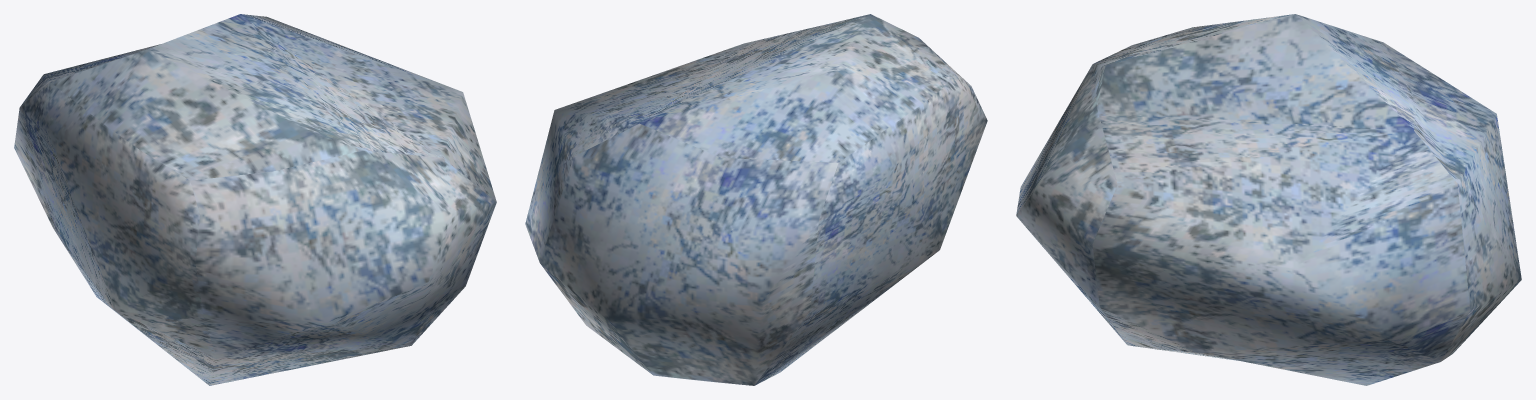
The model's file is asteroid_ice_medium_s02_l3.fbx.
The picture shows the model from 3 angles, left to right: view 1: azimuth 30°, elevation 25°; view 2: azimuth 150°, elevation 25°; view 3: azimuth 270°, elevation 25°; orthographic projection. The views are drawn at different scales.
Parts seen in each view (by area): view 1: mesh_node; view 2: mesh_node; view 3: mesh_node.
Part boxes in pixels (x1,y1,x2,y2): mesh_node: [14, 14, 496, 385]; mesh_node: [525, 14, 987, 385]; mesh_node: [1016, 14, 1521, 385].
Size of the model in its own units: 62.13 by 53.13 by 74.55.
